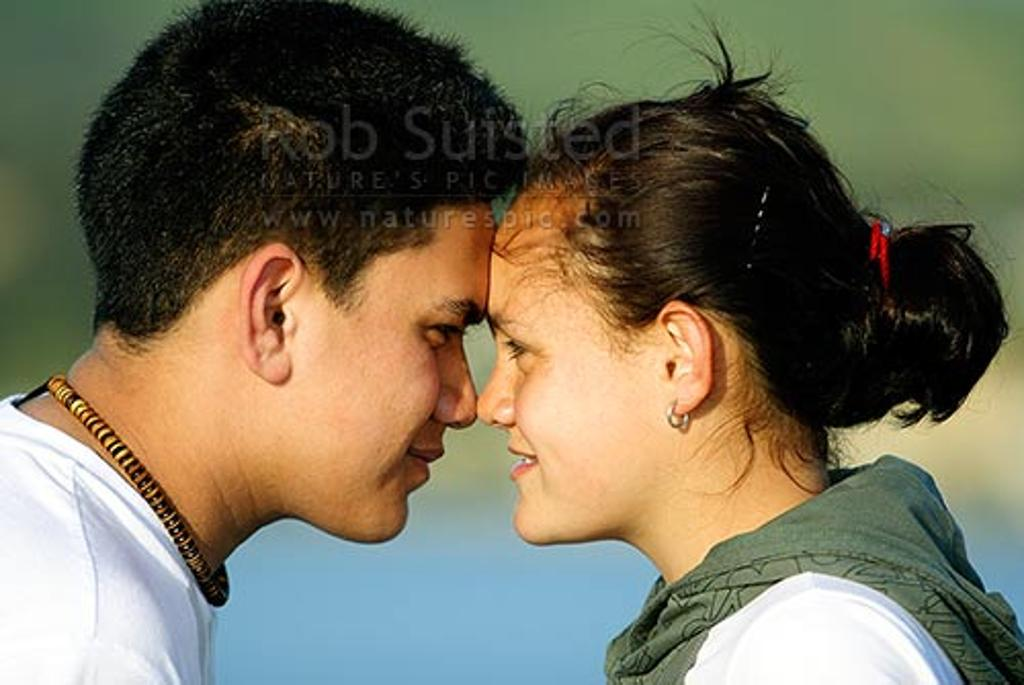face: (482, 182, 660, 544), (304, 202, 484, 540)
